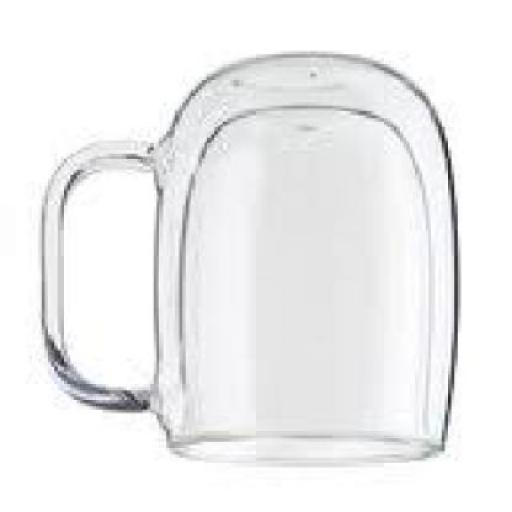glass: (45, 57, 461, 467)
